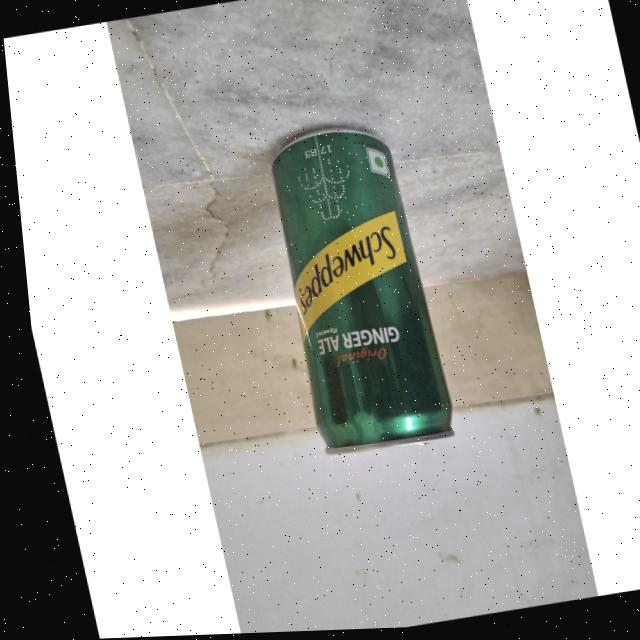Schweppes: (247, 118, 457, 464)
